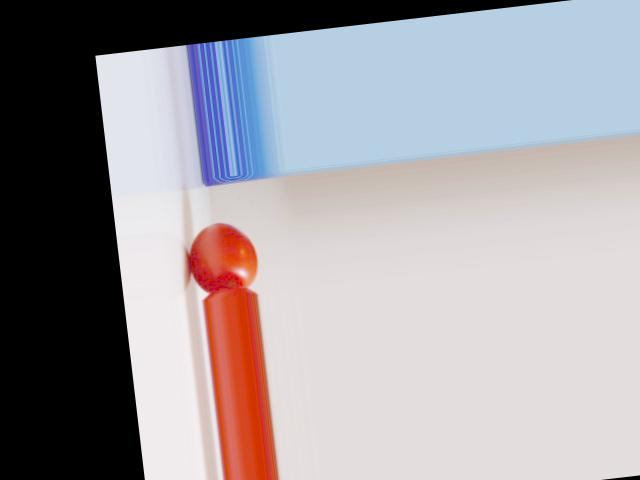tomato: (185, 219, 260, 293)
